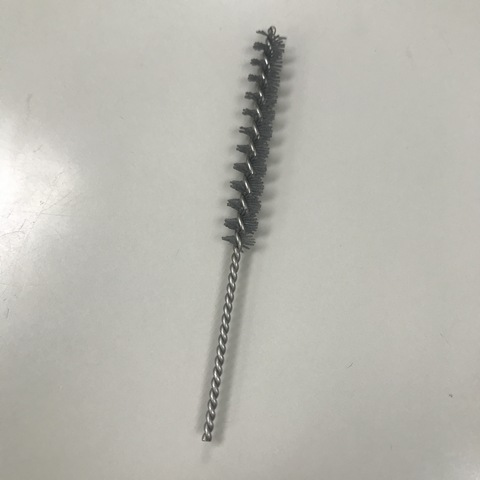Twist Brush-A: (197, 24, 286, 445)
